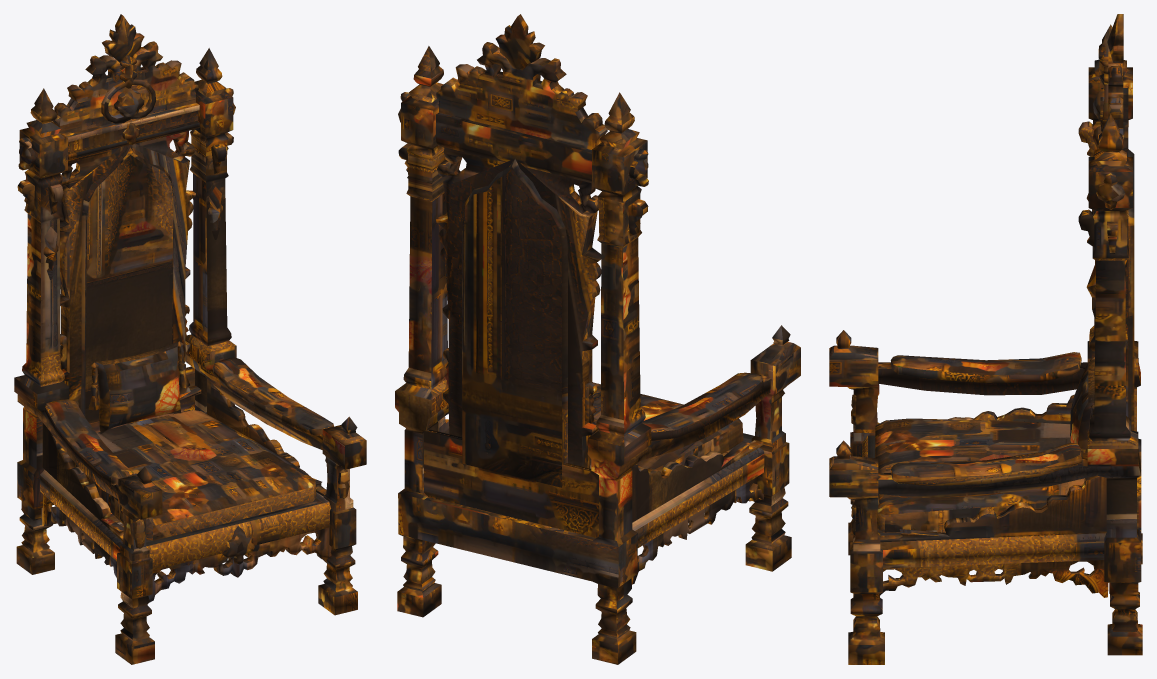
Rendered from ornate+throne+3d+model(1).fbx.
3 renders of one model, left to right at view 1: azimuth 30°, elevation 25°; view 2: azimuth 150°, elevation 25°; view 3: azimuth 270°, elevation 25°, orthographic. The views are drawn at different scales.
Parts seen in each view (by area): view 1: bb59121f_56aa_4342_8025_748dee768dbb; view 2: bb59121f_56aa_4342_8025_748dee768dbb; view 3: bb59121f_56aa_4342_8025_748dee768dbb.
Part boxes in pixels (x1,y1,x2,y2): bb59121f_56aa_4342_8025_748dee768dbb: (14, 14, 366, 664); bb59121f_56aa_4342_8025_748dee768dbb: (395, 14, 800, 664); bb59121f_56aa_4342_8025_748dee768dbb: (829, 14, 1142, 664).
Bounding box in the file's own units: 0.4448 × 0.9995 × 0.481.
